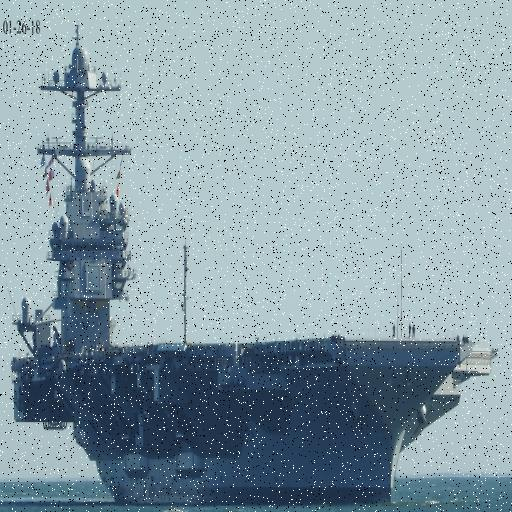Portanaves: (9, 15, 500, 509)
